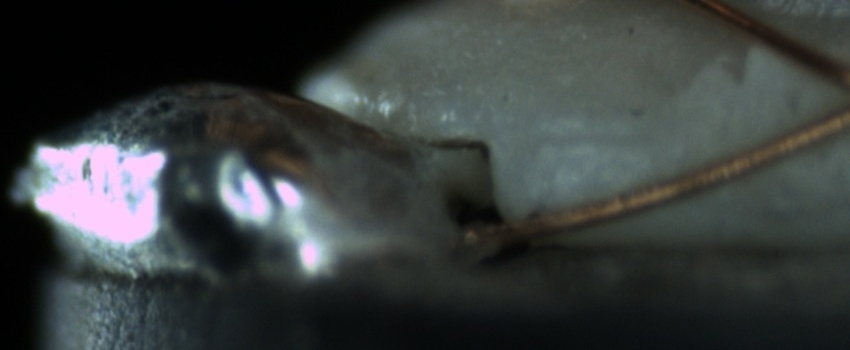CL: (806, 45, 850, 131)
DL: (532, 107, 664, 173)
